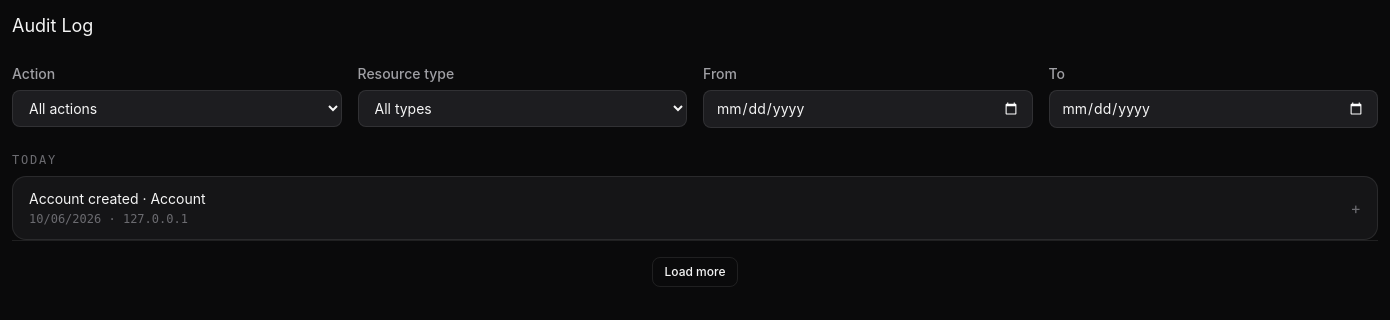
AuditLogPanel › paginates via the keyset cursor on 'Load more'
This screenshot has width=1390, height=320.
Click the button "Load more" at (695,272), box 652,257 -> 738,287
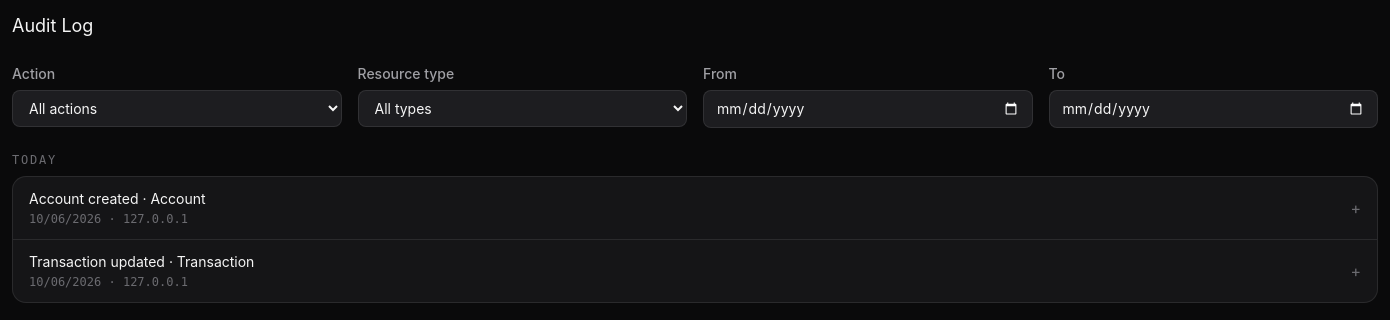
Check: the text "Transaction updated · Transaction" is shown, box 29,252 -> 254,272
